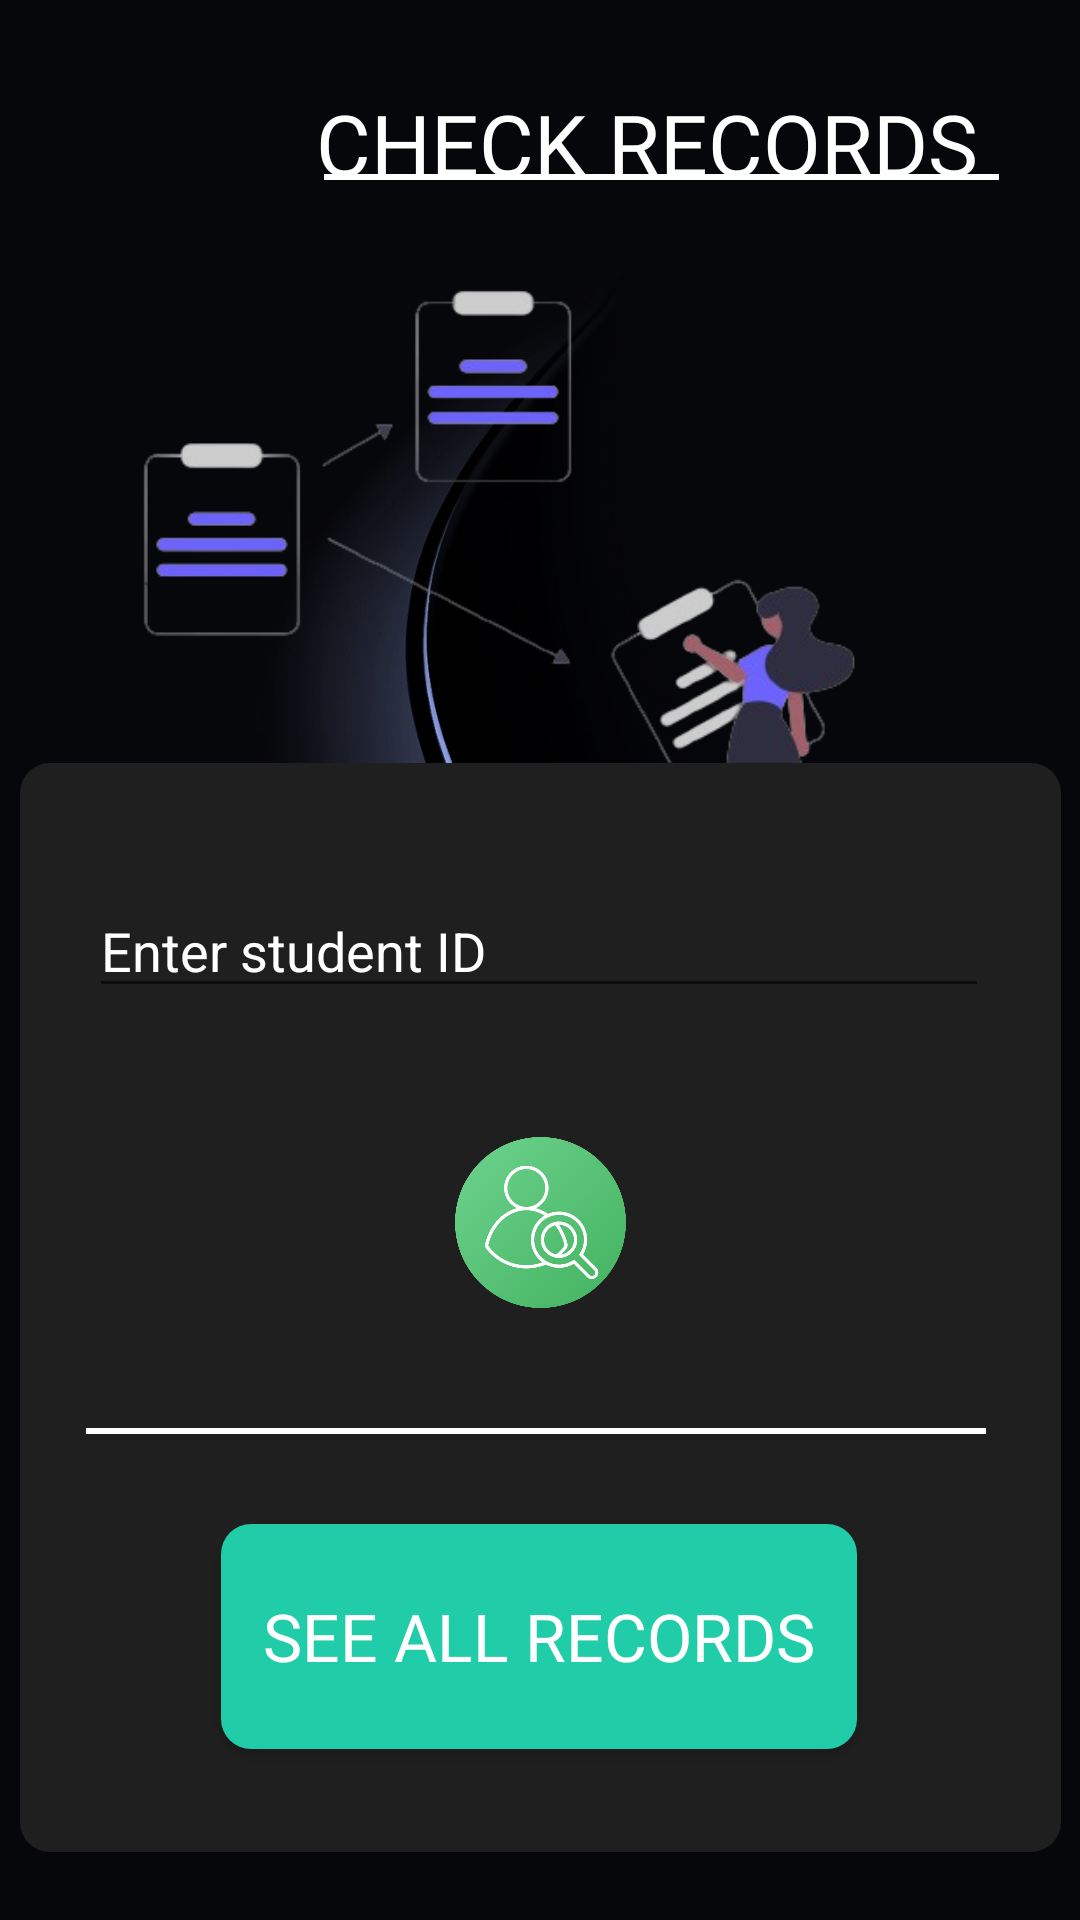

Icons on this 1080*1920 Android screen, each with the point to tap as (x,y):
search: (540,1222)
